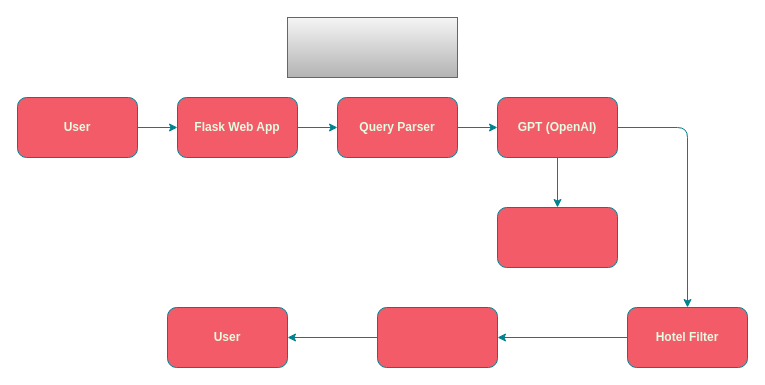
The diagram is 765 pixels wide and 385 high, and some of its shapes have lost their labels. The centre of each missing label's shape, as x and y in pixels:
Google Codes: the point at 557,237
Prime Architecture: the point at 372,47
Response: the point at 437,337
